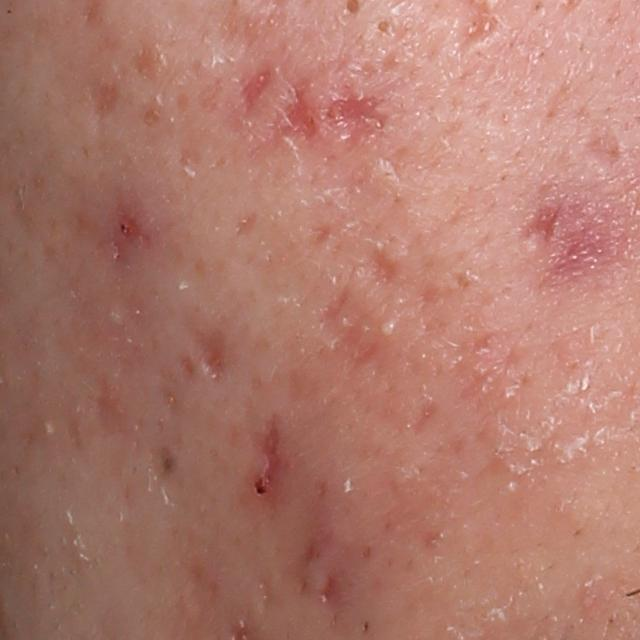atrophic_scar: (336, 302, 383, 377), (321, 91, 395, 134), (271, 80, 318, 146), (577, 116, 623, 182), (309, 278, 355, 334), (188, 330, 232, 384), (520, 195, 566, 244), (403, 396, 449, 444), (237, 66, 272, 114), (91, 75, 122, 121), (130, 37, 161, 80), (174, 131, 205, 170), (230, 207, 257, 236)
comedo: (374, 14, 395, 38)
nevus: (162, 455, 178, 474)
